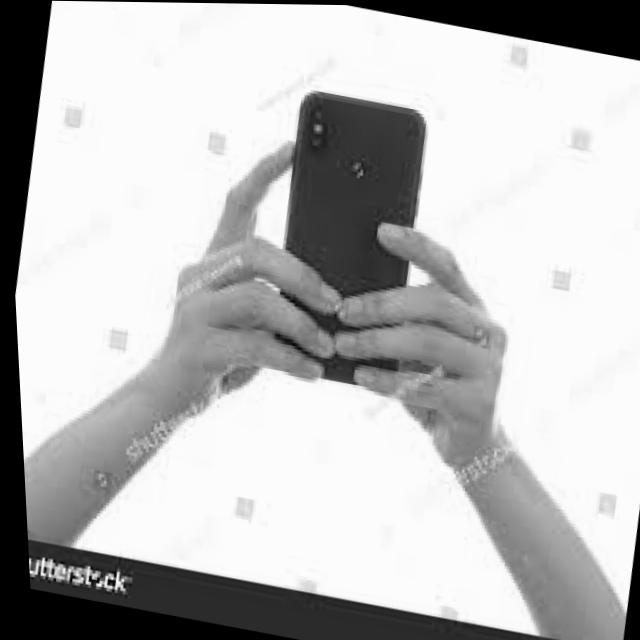Smartphone: (239, 79, 457, 403)
